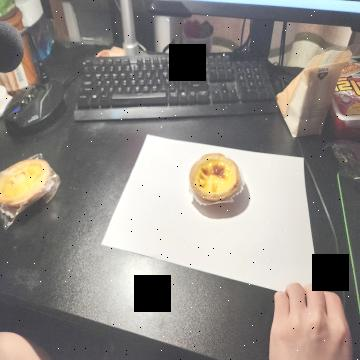EggTart: (190, 153, 240, 201)
